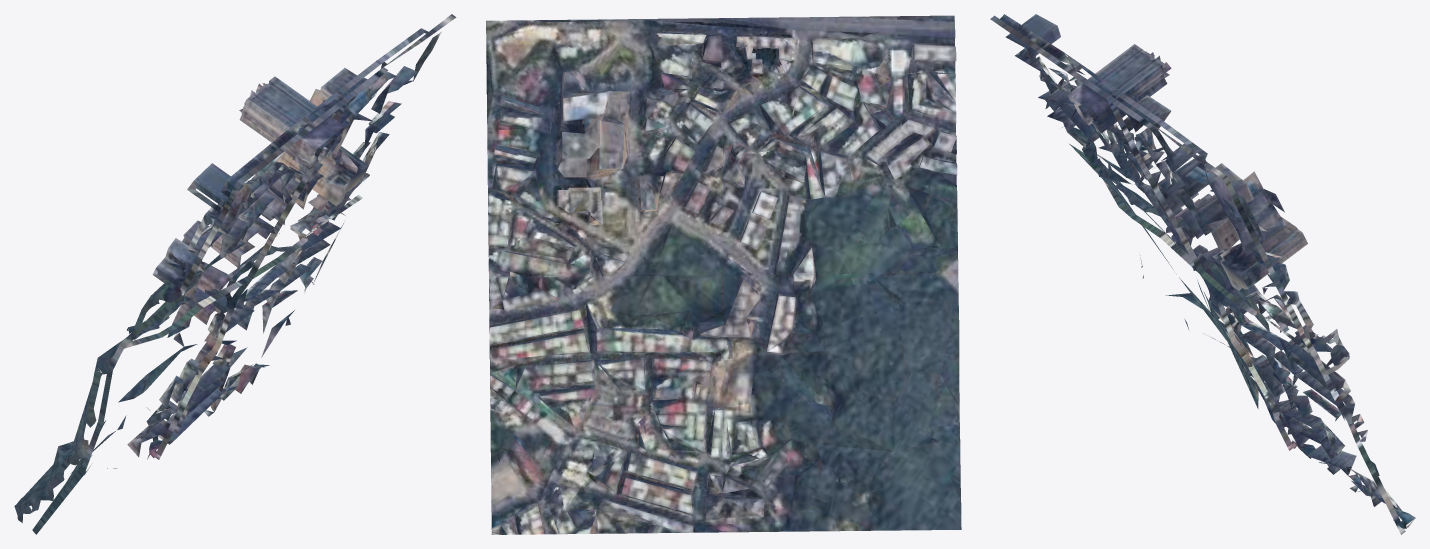
3 renders of one model, left to right at view 1: azimuth 30°, elevation 25°; view 2: azimuth 150°, elevation 25°; view 3: azimuth 270°, elevation 25°, orthographic. The views are drawn at different scales.
Size of the model in its own units: 637 by 571 by 530.
Materials: 1 (1 with a texture image).
